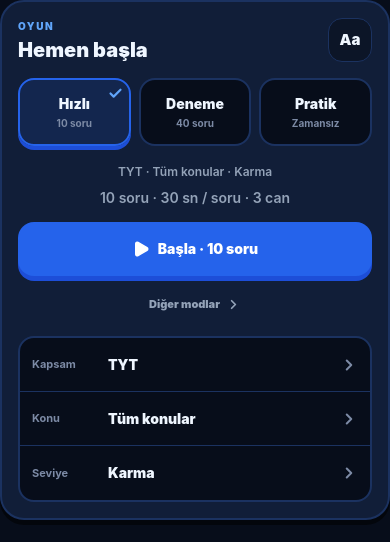
MobileLobbyFlow › denemede gereksiz konu ve seviye ayarlarını kaldırır
The width and height of the screenshot is (390, 542).
Click the button with aria-label "Deneme: 40 soru": (195, 112) top-left (139, 78), bottom-right (251, 146)
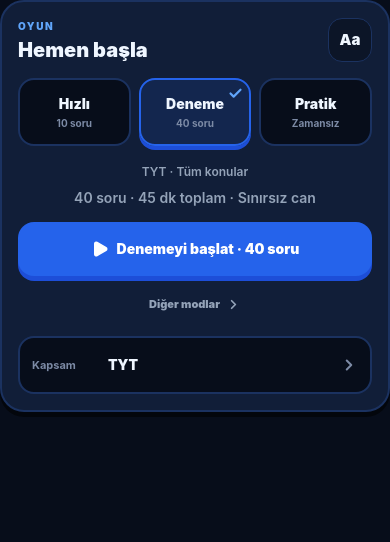
Expected: the heading "Hemen başla" is shown, top-left (18, 38), bottom-right (148, 62)
Now the button "Denemeyi başlat · 40 soru" is shown, box top-left (18, 222), bottom-right (372, 276)
